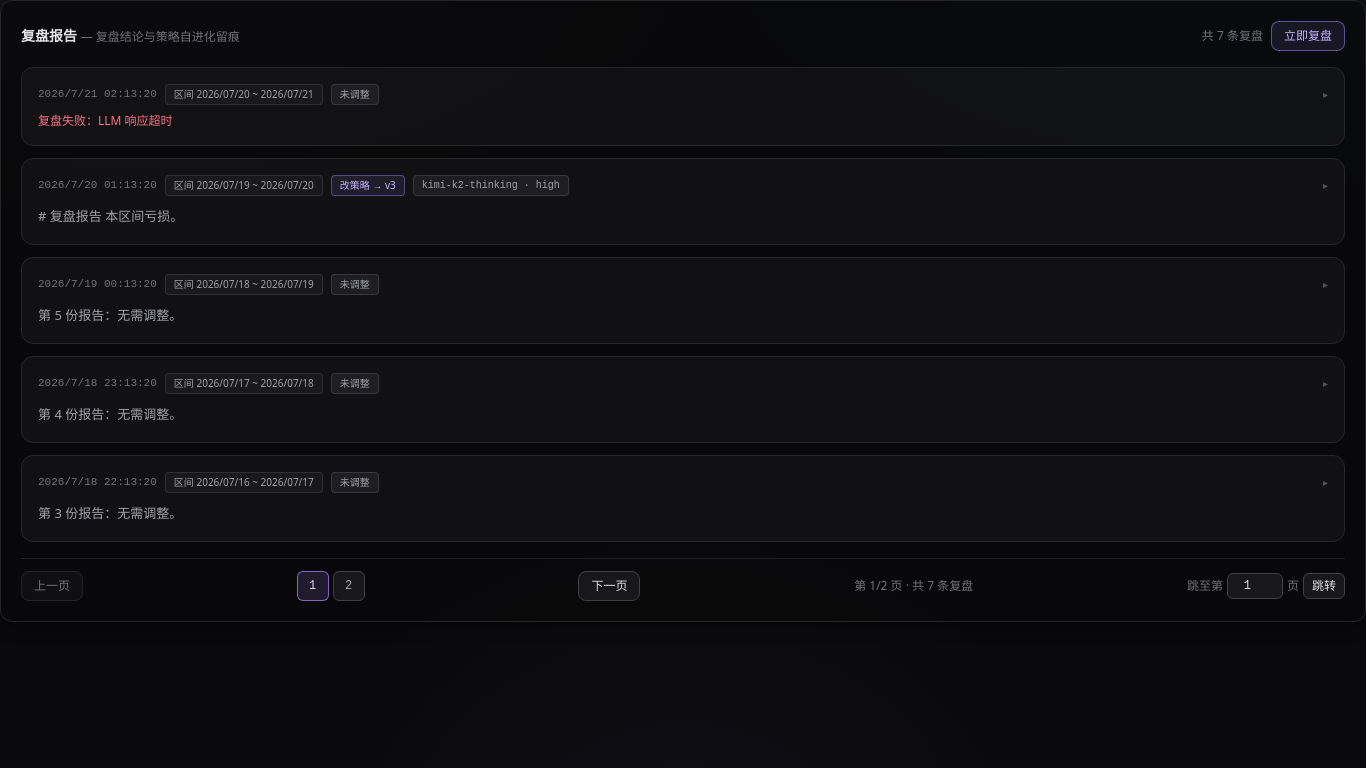
Test: ReviewPanel(复盘报告) › 立即复盘点火成功：提示已启动、按钮立即恢复且不主动刷新列表，ignite 事件携带预分配 roundId
The width and height of the screenshot is (1366, 768).
Expected: the text "第 5 份报告：无需调整。" is shown, [38,306,182,324]
Step 1. Click the button "立即复盘" → (1308, 36), box [1271,21,1345,51]
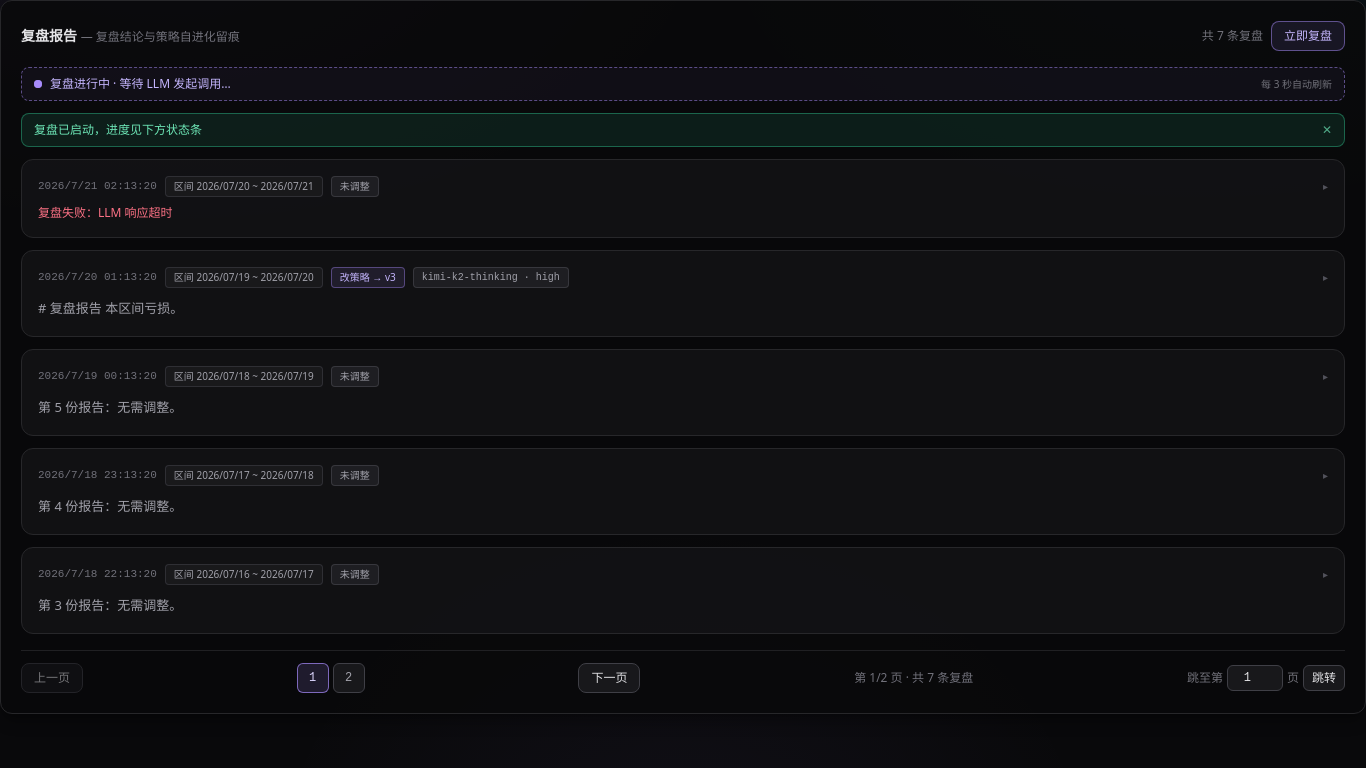
Expected: the text "复盘已启动，进度见下方状态条" is shown, [34,121,202,138]
